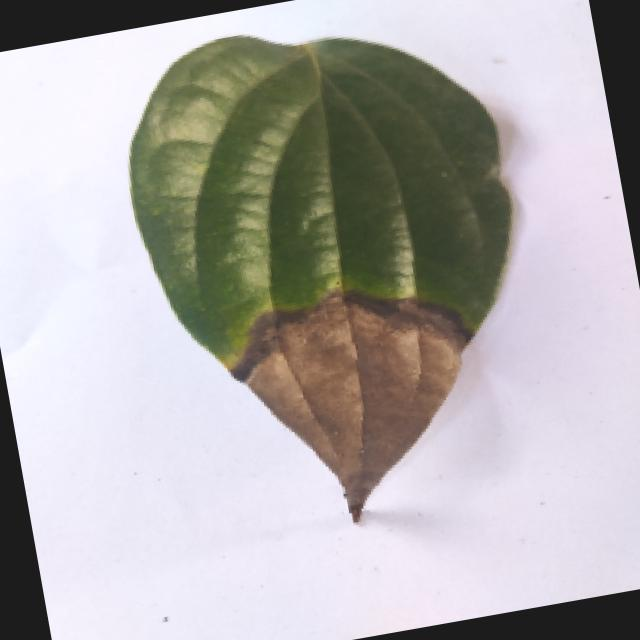footrot: (109, 0, 570, 550)
